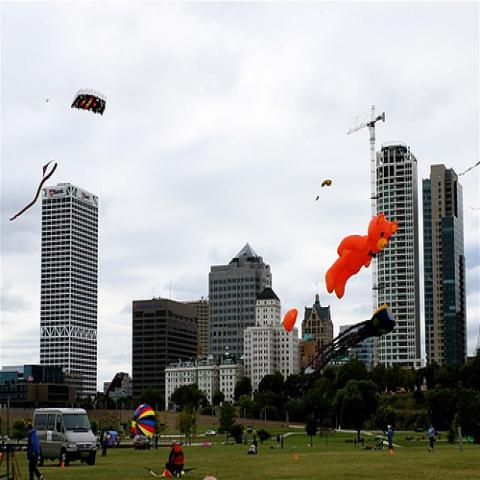car: (32, 408, 98, 466), (132, 434, 151, 450), (203, 429, 217, 436), (247, 425, 252, 433)
